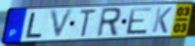E: (125, 6, 154, 36)
K: (150, 7, 174, 34)
L: (24, 12, 44, 39)
R: (95, 7, 123, 39)
T: (79, 8, 98, 39)
V: (49, 8, 76, 41)
